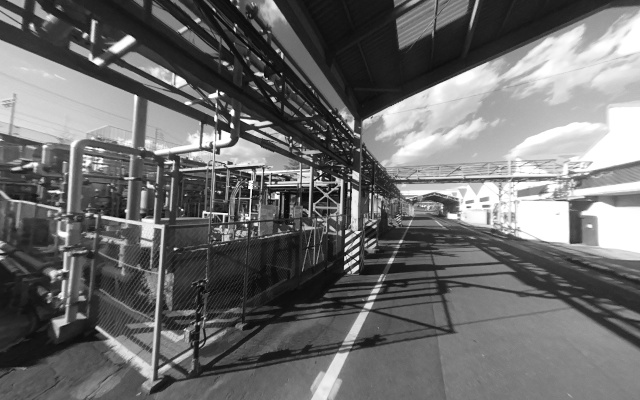bollard: (344, 227, 365, 277), (361, 215, 380, 254), (395, 212, 402, 228)
